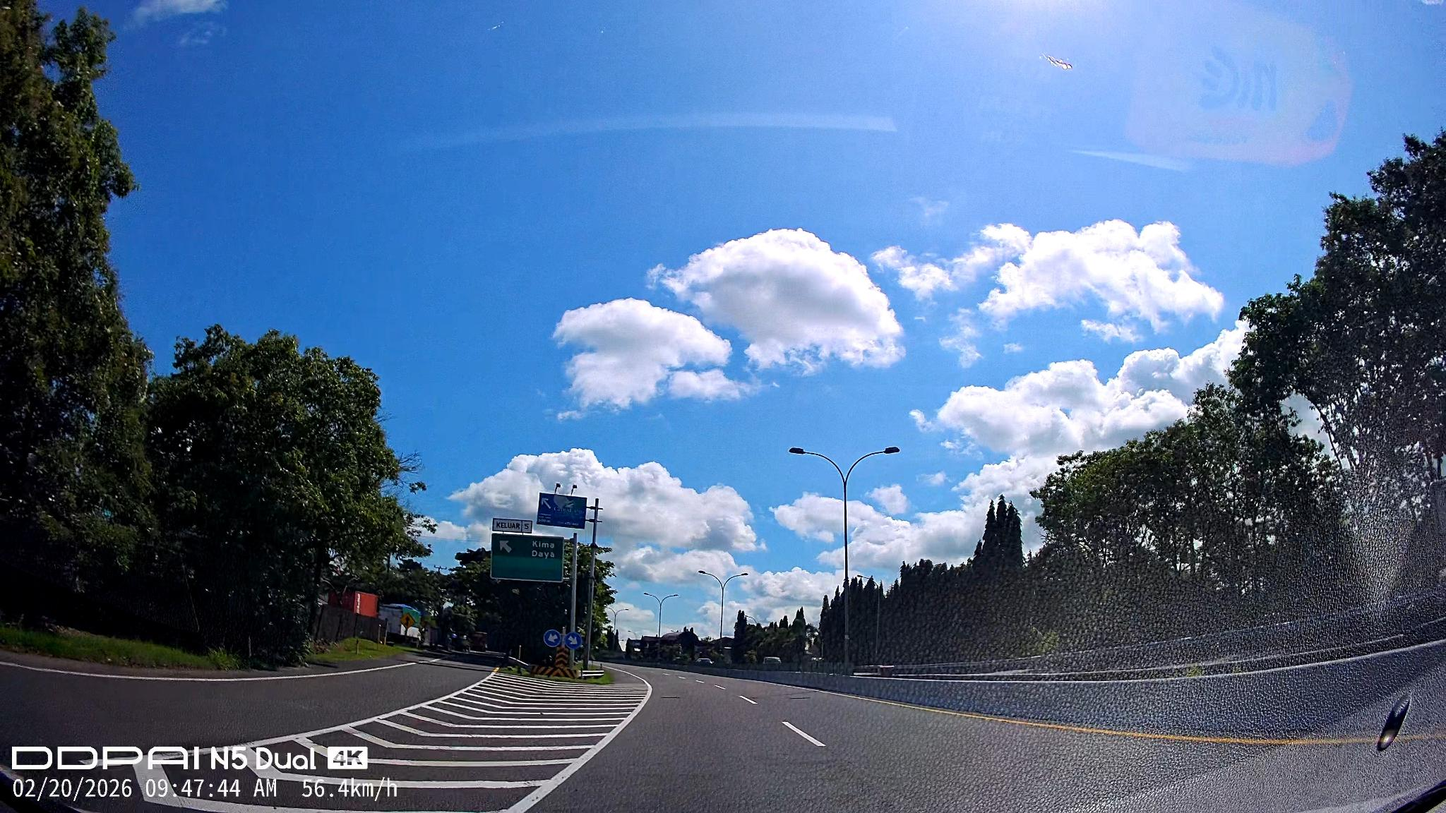rambu_teks: (489, 533, 565, 584)
